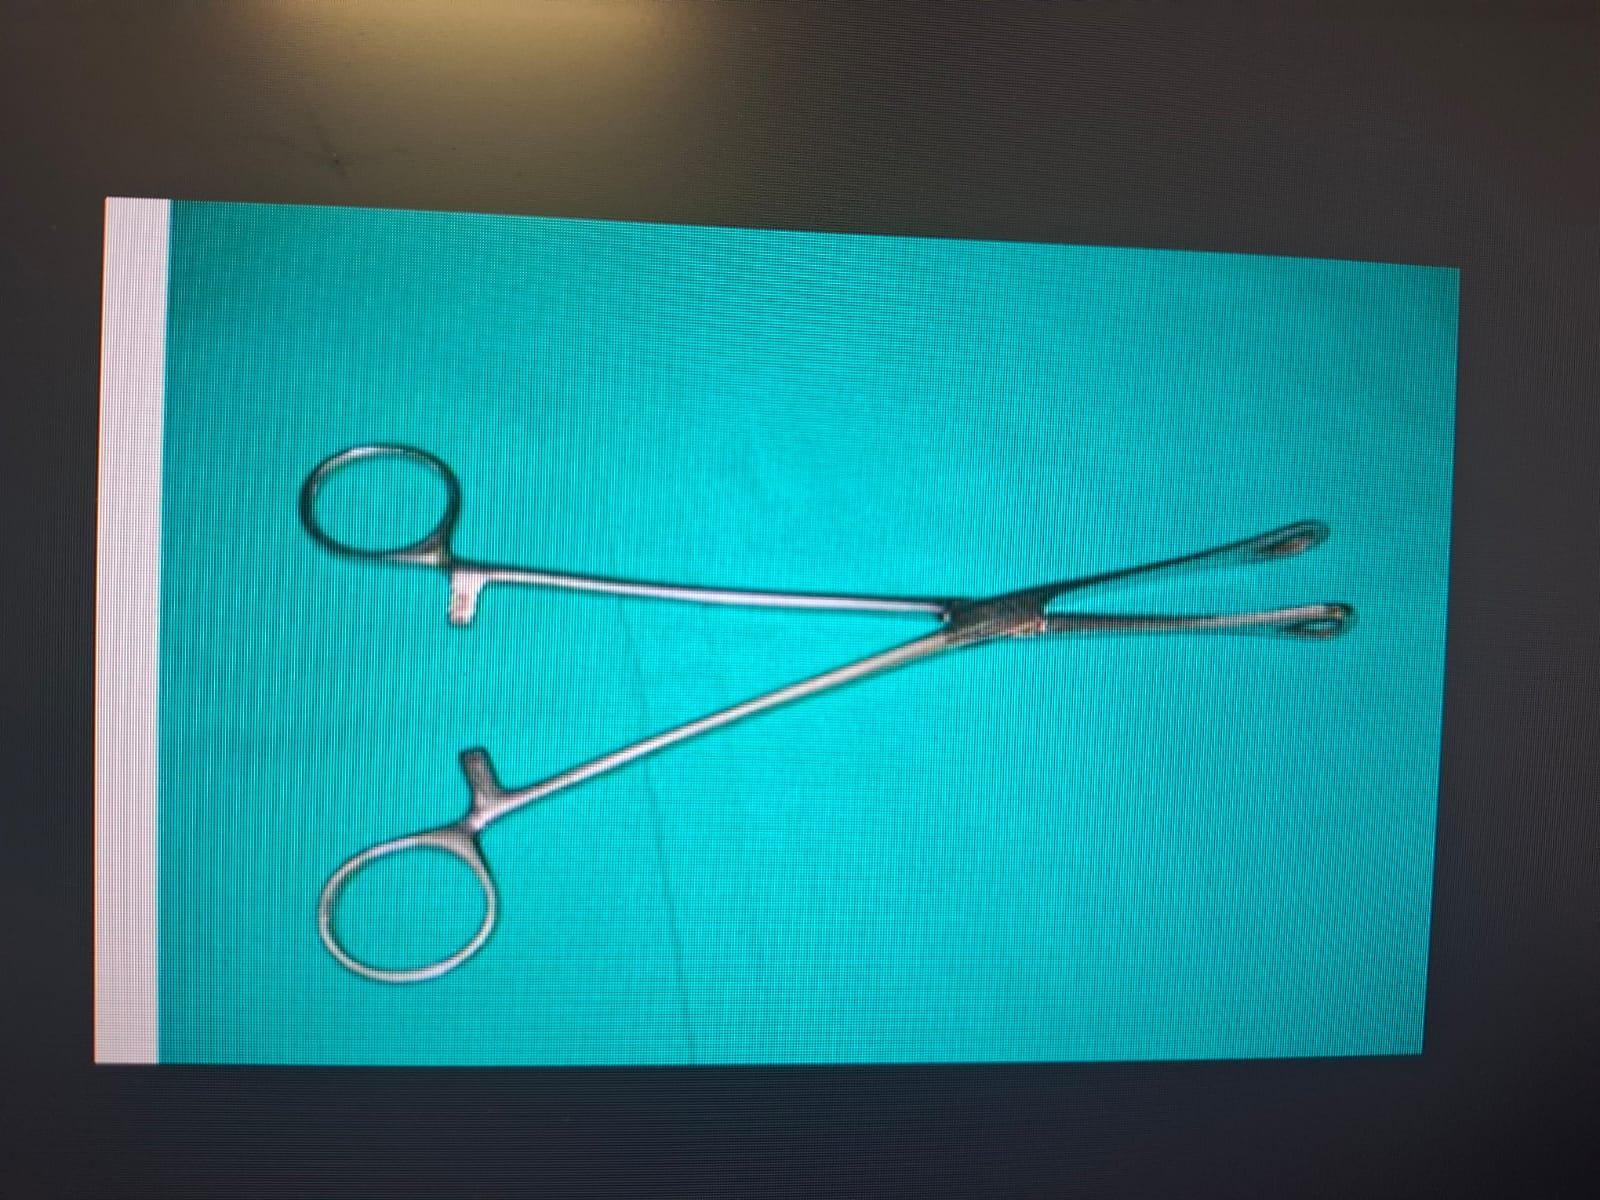Sponge Holding Forceps: (282, 422, 1364, 986)
